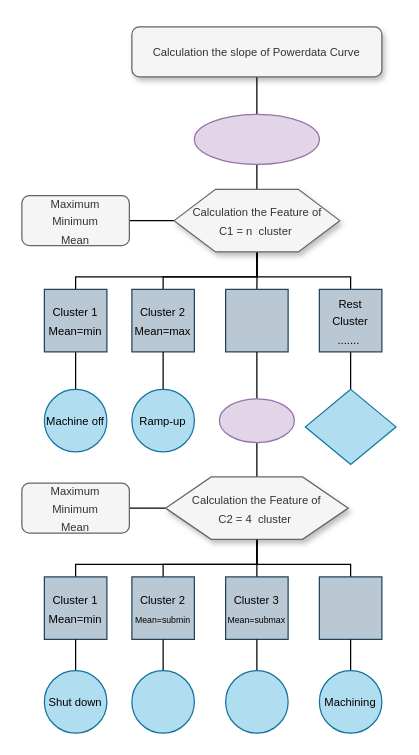
This 419x755 diagram has some shape labels left out. Each missing label, with the centre of its shape:
"Cluster 3 Mean=0" belongs at (x=256, y=320).
"Cluster 4 Mean=max" belongs at (x=350, y=607).
"Clustering C1" belongs at (x=256, y=138).
"Clustering C2" belongs at (x=256, y=420).
"same state of the neighbours" belongs at (x=350, y=426).
"Set-up" belongs at (x=162, y=701).
"Standby" belongs at (x=256, y=701).
